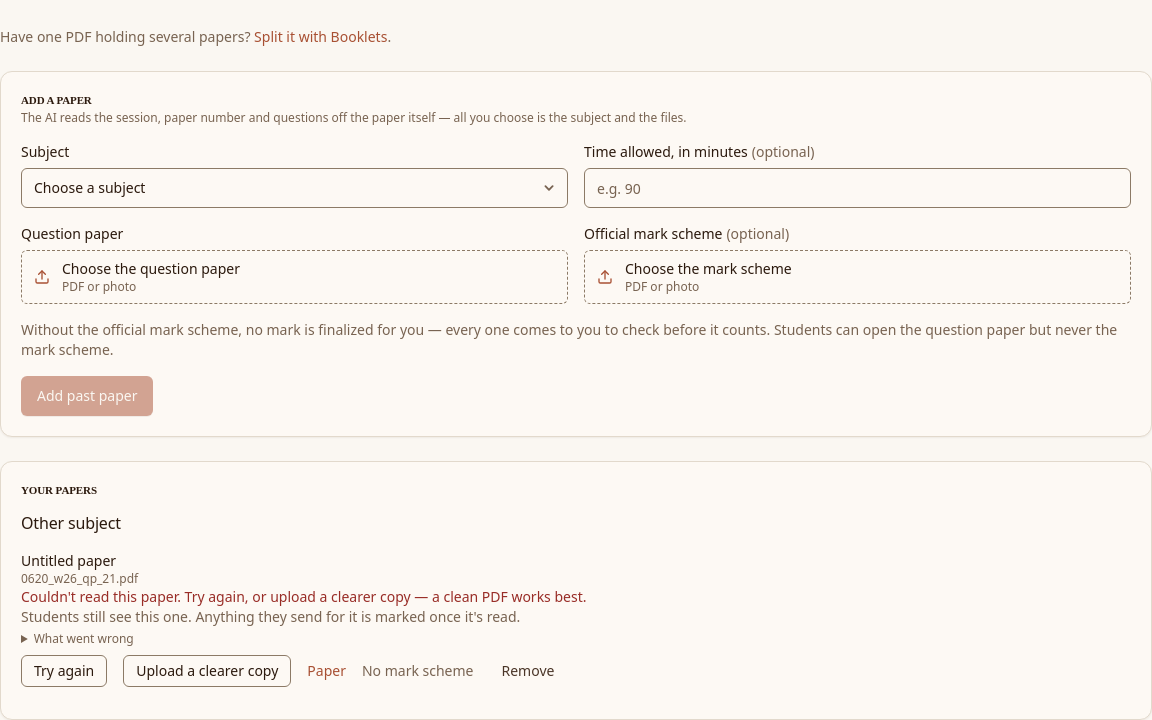
Test case: removing an unreadable paper says its answers can't be marked, not that nobody is affected
(page scrolled)
// Named by its file: several unread rows would otherwise all be "Untitled paper".
Click the button with aria-label "Remove 0620_w26_qp_21.pdf": (528,671) [490,655,566,687]
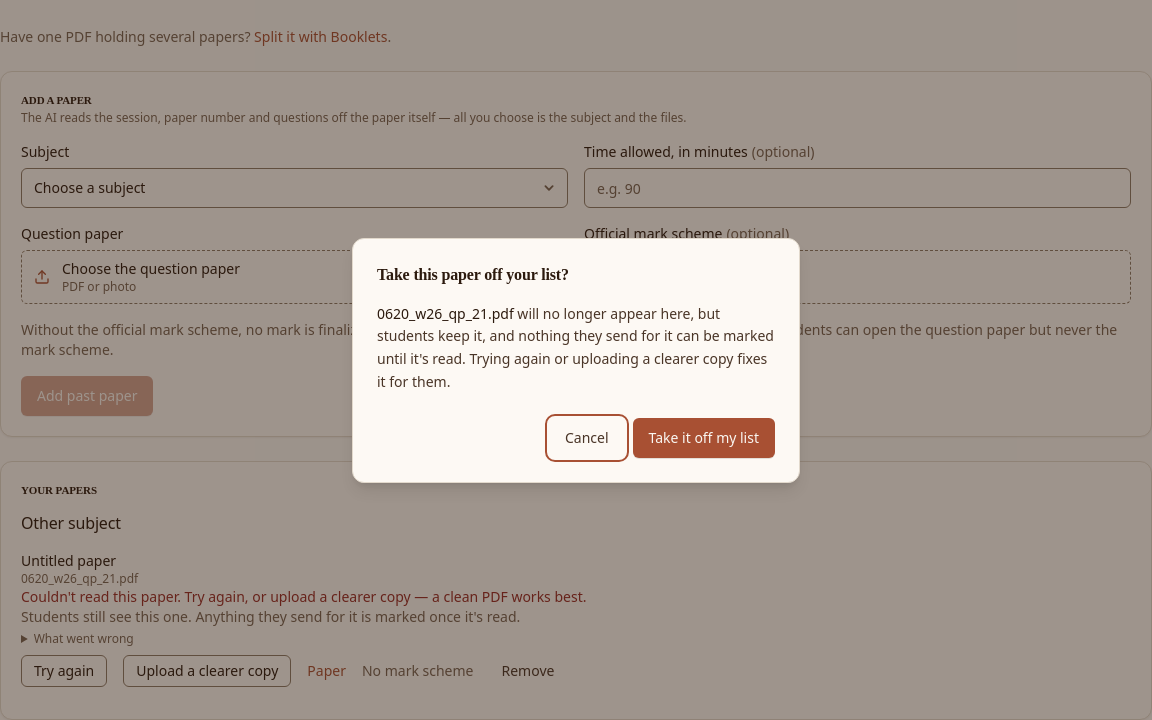
Expected: the text "nothing they send for it can be marked" is shown, [377,304,774,391]
